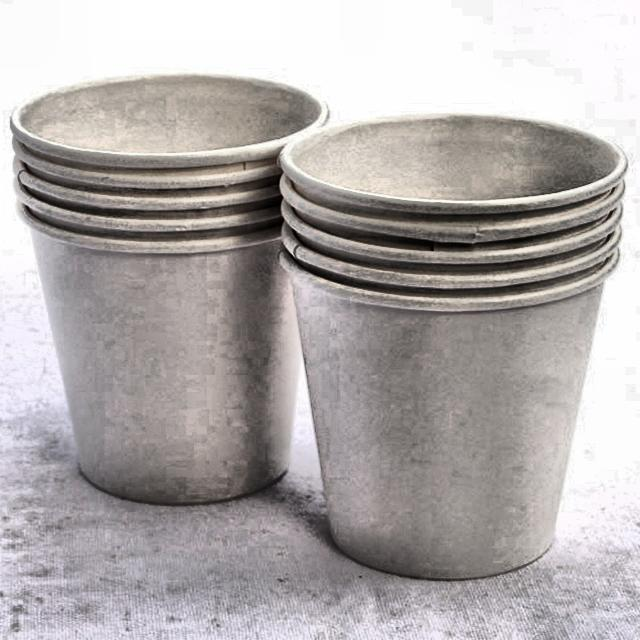Cup: (275, 103, 640, 593), (0, 63, 321, 532)
